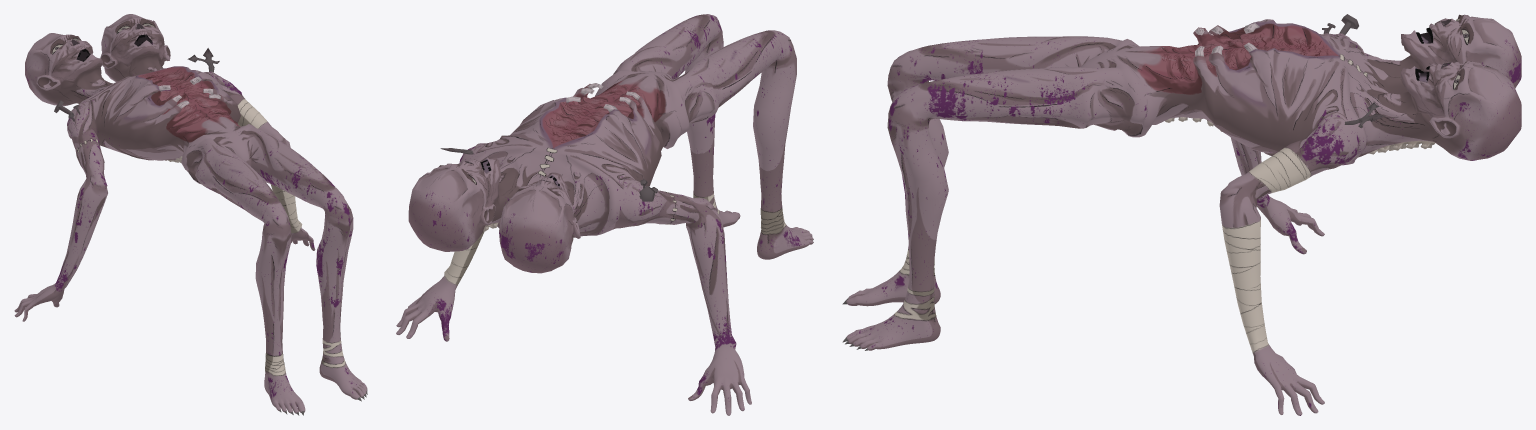
The picture shows the model from 3 angles, left to right: view 1: azimuth 30°, elevation 25°; view 2: azimuth 150°, elevation 25°; view 3: azimuth 270°, elevation 25°; orthographic projection. The views are drawn at different scales.
Parts seen in each view (by area): view 1: 主体.001; view 2: 主体.001; view 3: 主体.001.
Boxes of the visible parts, <box> form: 主体.001: <box>14,14,367,415</box>; 主体.001: <box>396,14,813,415</box>; 主体.001: <box>842,14,1521,415</box>.
Bounding box in the file's own units: 1.02 × 0.7142 × 1.52.
2 materials, 2 textured.
